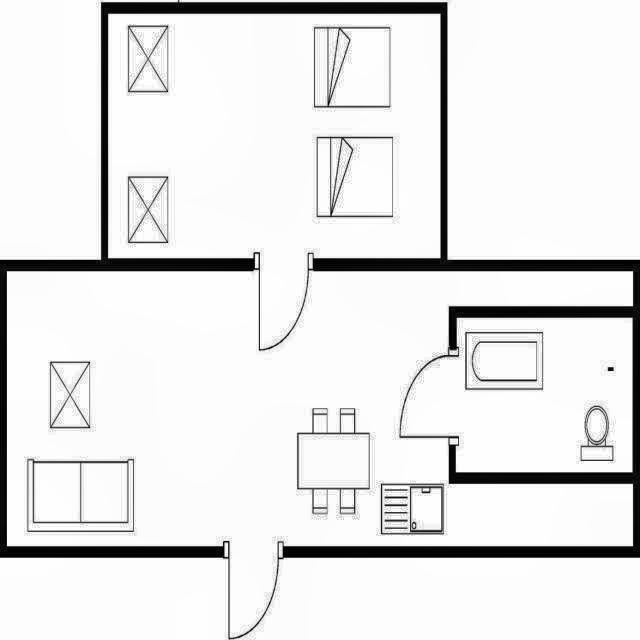room: (7, 270, 633, 545), (108, 15, 441, 258), (457, 318, 632, 472)
